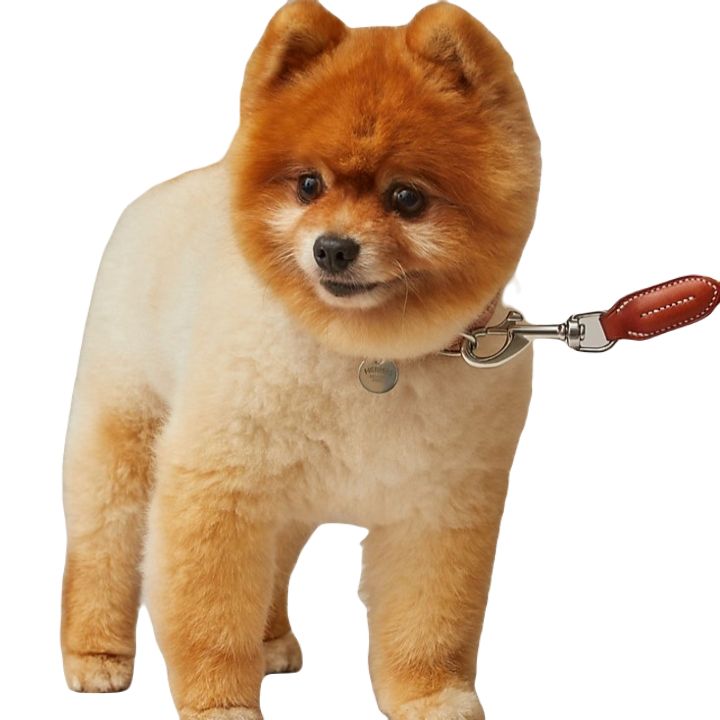Dog: (52, 0, 545, 717)
